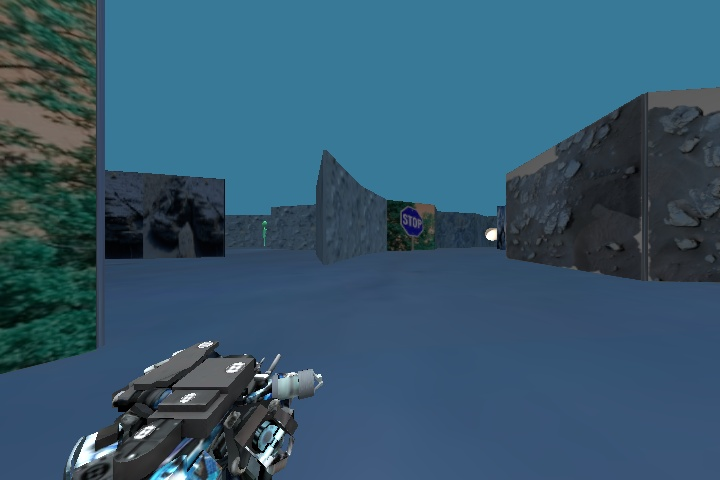stop_sign: (396, 203, 427, 240)
white_sphere: (481, 224, 501, 243)
